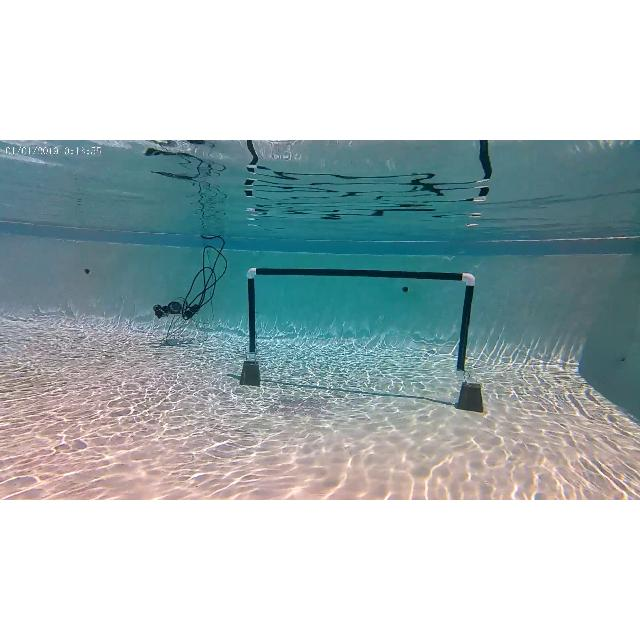prequal gate: (248, 267, 474, 375)
prequal gate leg l: (237, 268, 265, 384)
prequal gate leg r: (452, 271, 488, 415)
